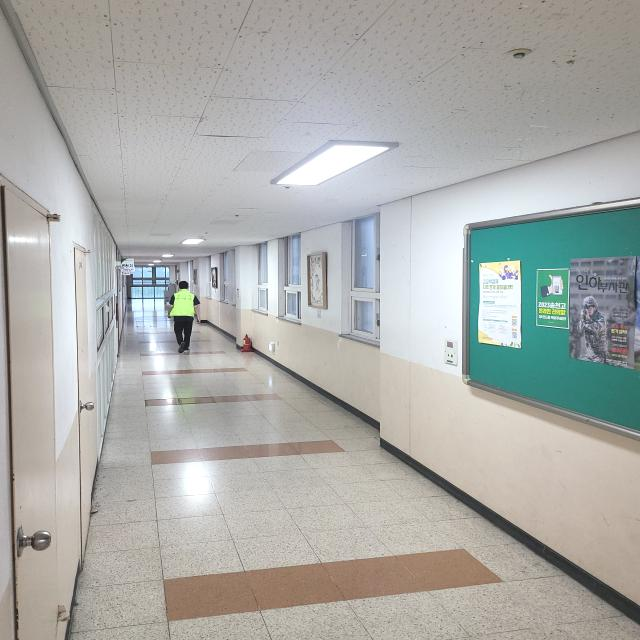weston_spy: (169, 286, 200, 324)
